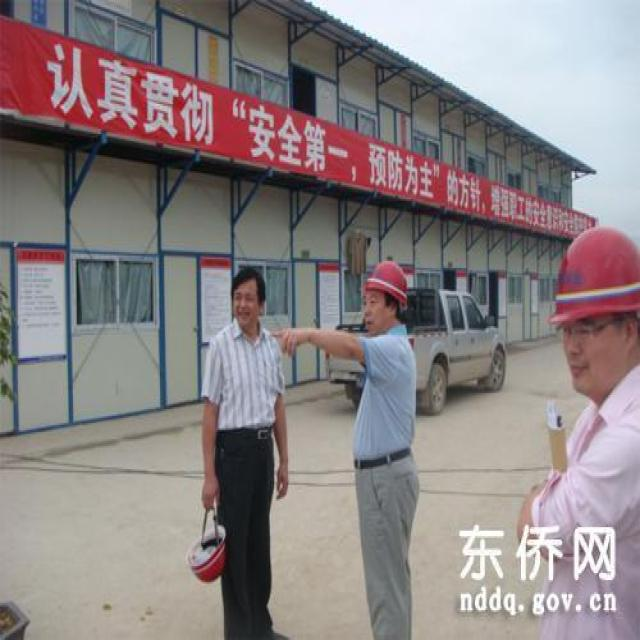helmet: (549, 220, 640, 395), (361, 259, 412, 332)
no-helmet: (228, 263, 269, 333)
